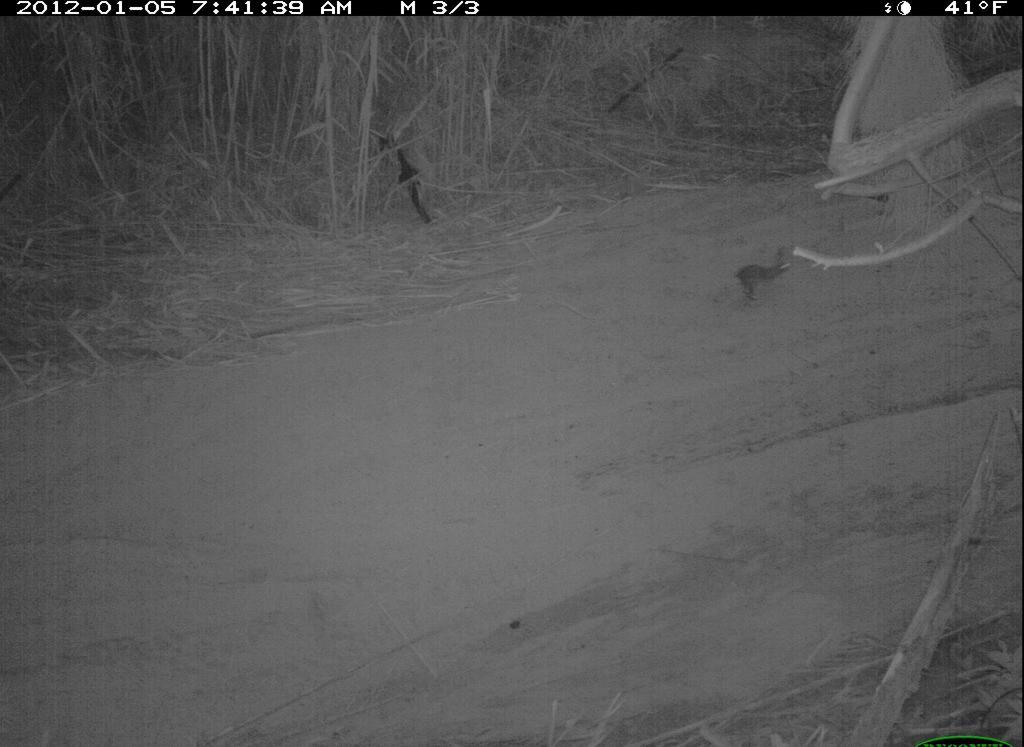rabbit: (729, 241, 807, 309)
